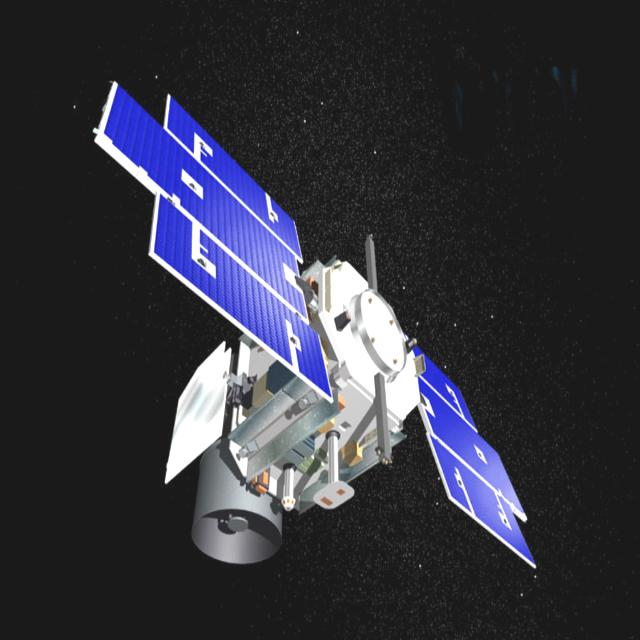satellite: (93, 85, 535, 582)
